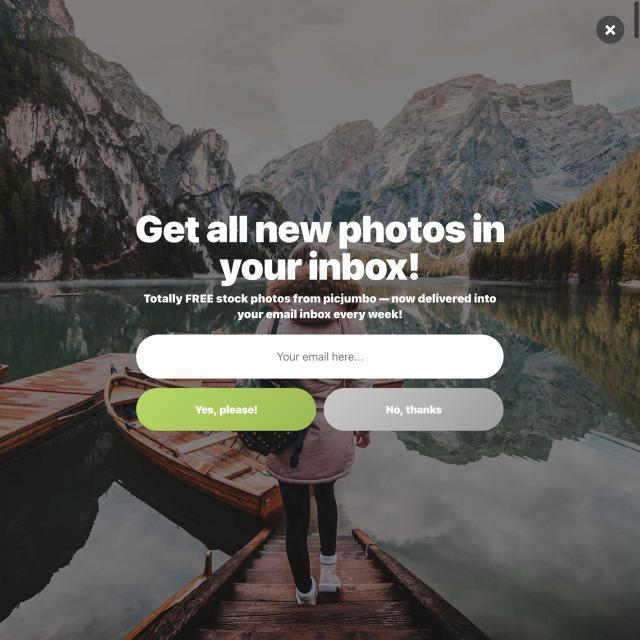button: (322, 386, 508, 433), (136, 385, 318, 433)
input field: (136, 332, 506, 380)
